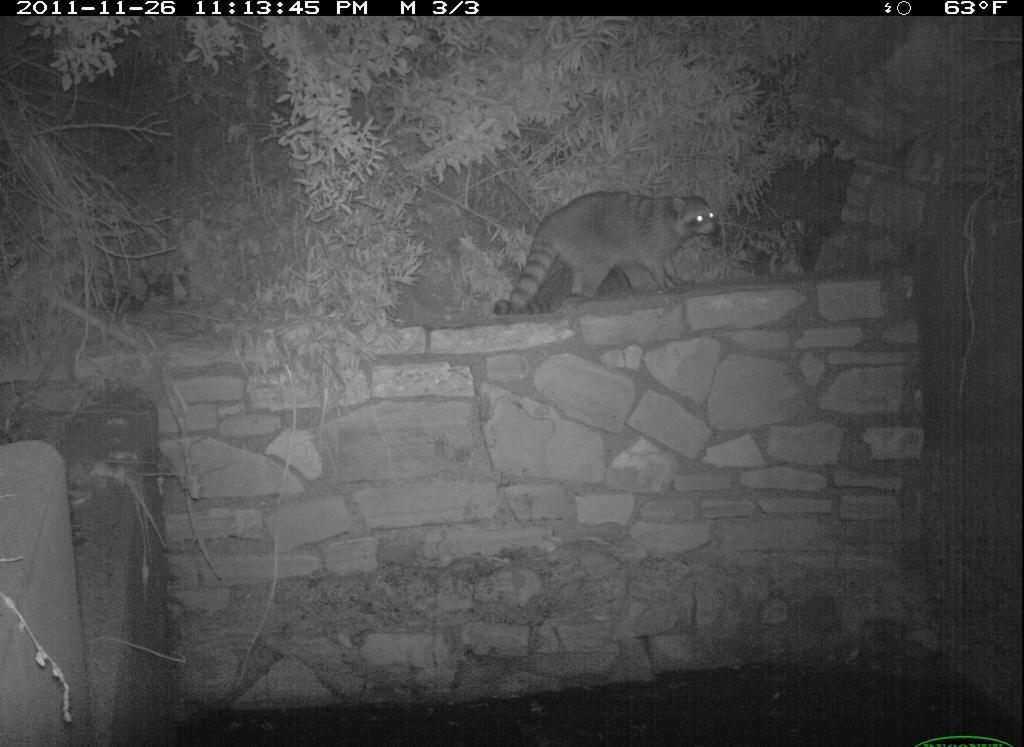raccoon: (482, 178, 745, 345)
